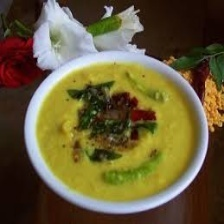dal: (35, 61, 201, 201)
